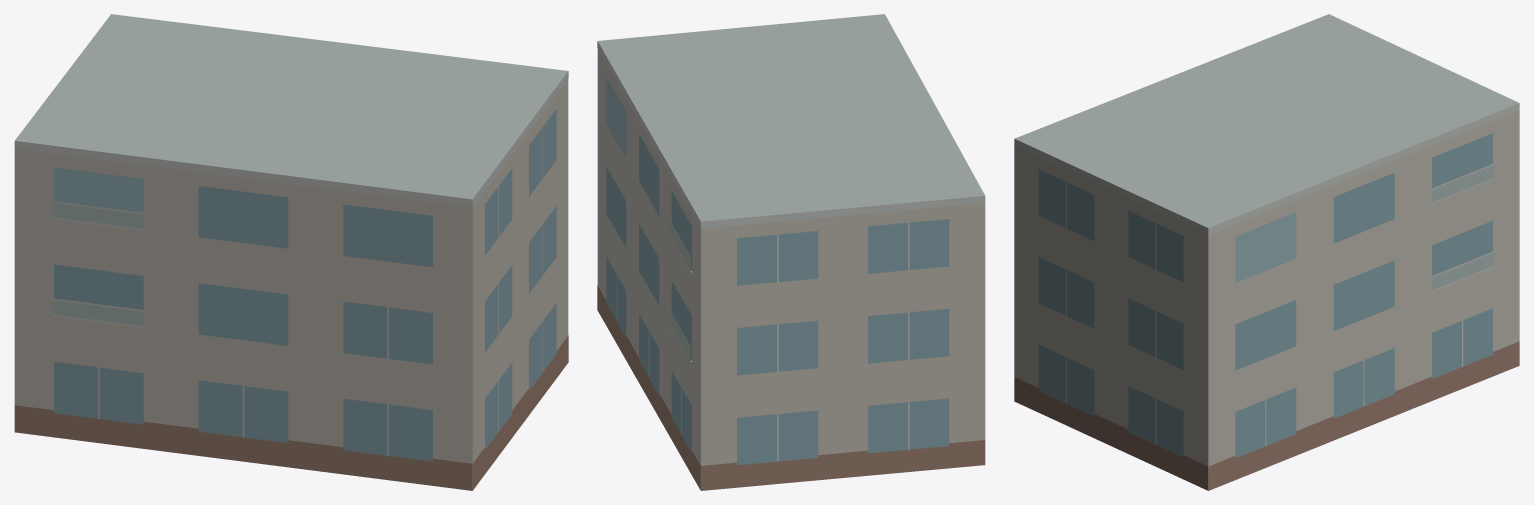
The model's file is survey-upis-32684469.glb.
The picture shows the model from 3 angles, left to right: view 1: azimuth 30°, elevation 25°; view 2: azimuth 150°, elevation 25°; view 3: azimuth 270°, elevation 25°; orthographic projection. The views are drawn at different scales.
Parts seen in each view (by area): view 1: survey-upis-32684469.tmp; view 2: survey-upis-32684469.tmp; view 3: survey-upis-32684469.tmp.
Part boxes in pixels (<box>): survey-upis-32684469.tmp: <box>14,14,568,490</box>; survey-upis-32684469.tmp: <box>597,14,985,490</box>; survey-upis-32684469.tmp: <box>1014,14,1519,490</box>.
Size of the model in its own units: 16 by 9.15 by 15.95.
